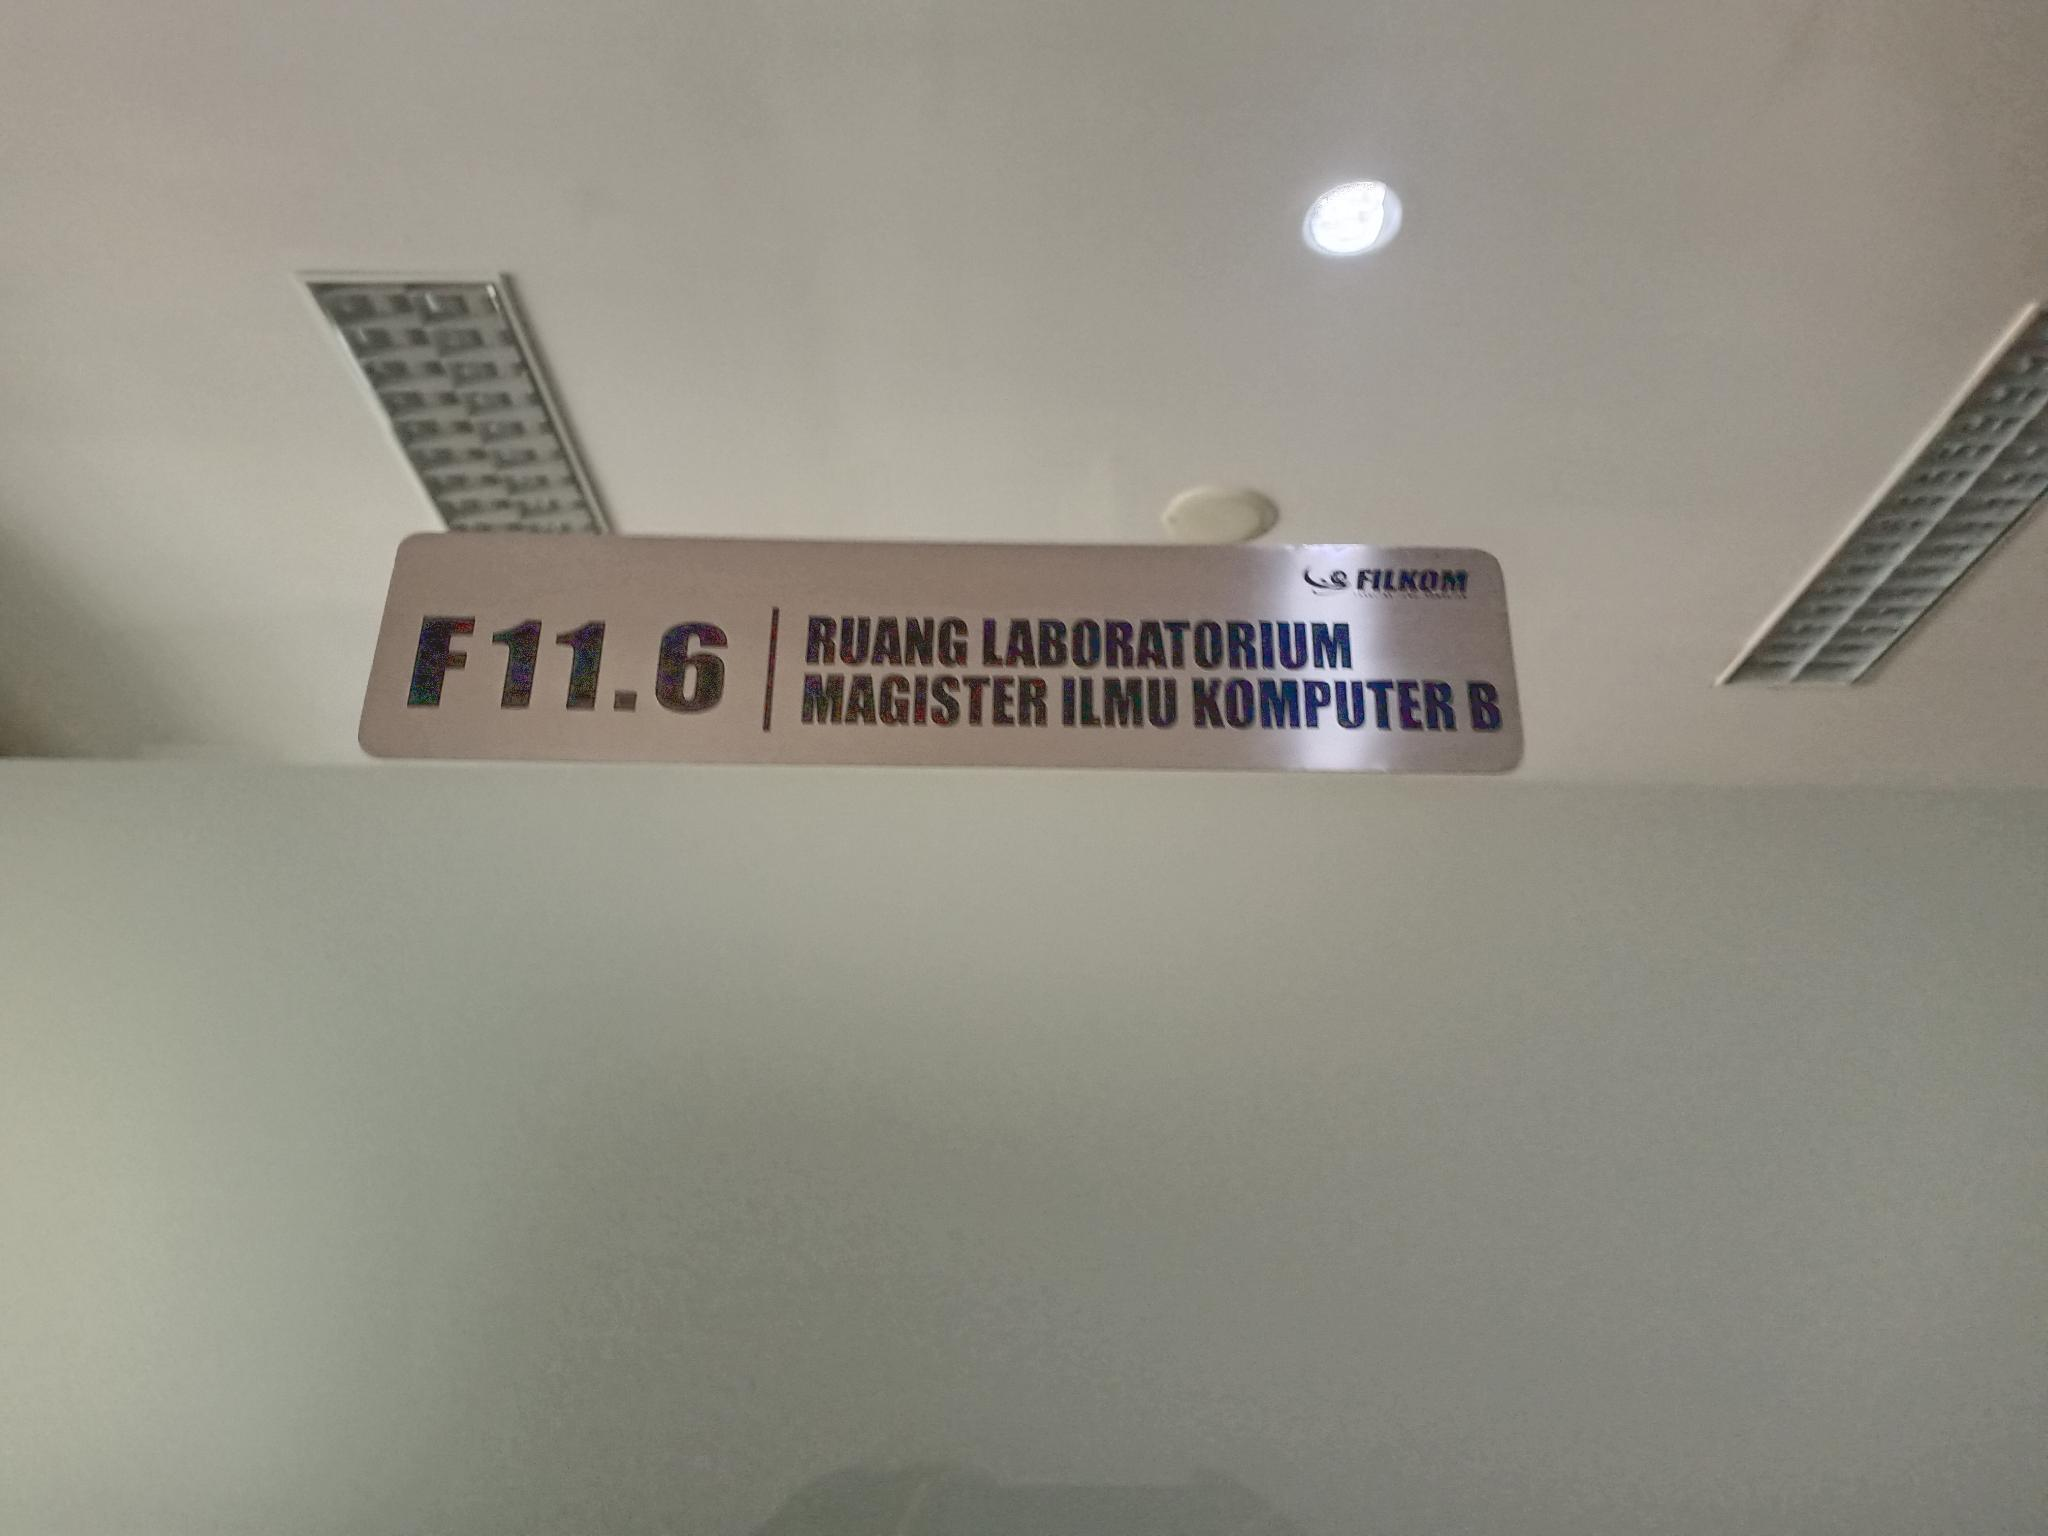plate: (353, 529, 1529, 773)
